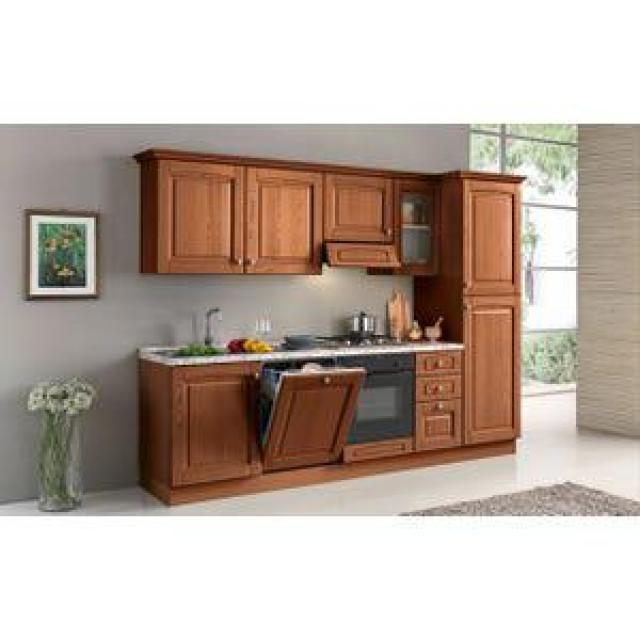dishwasher: (252, 354, 367, 480)
